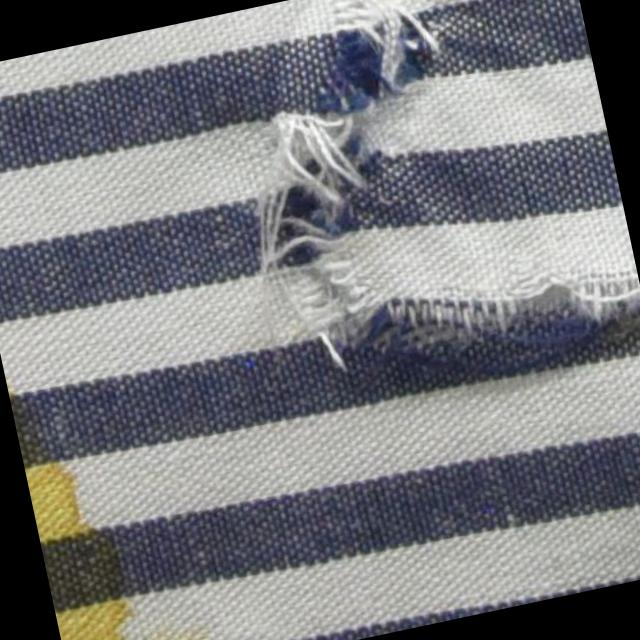cut: (204, 0, 487, 383), (472, 257, 640, 369)
stain: (10, 385, 146, 640), (139, 606, 225, 640)
